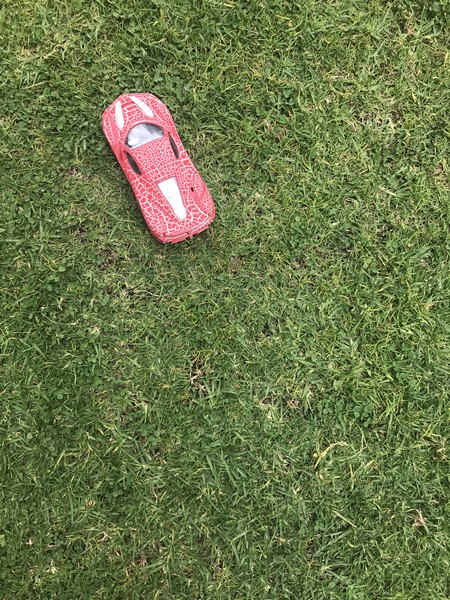RC: (98, 91, 218, 244)
